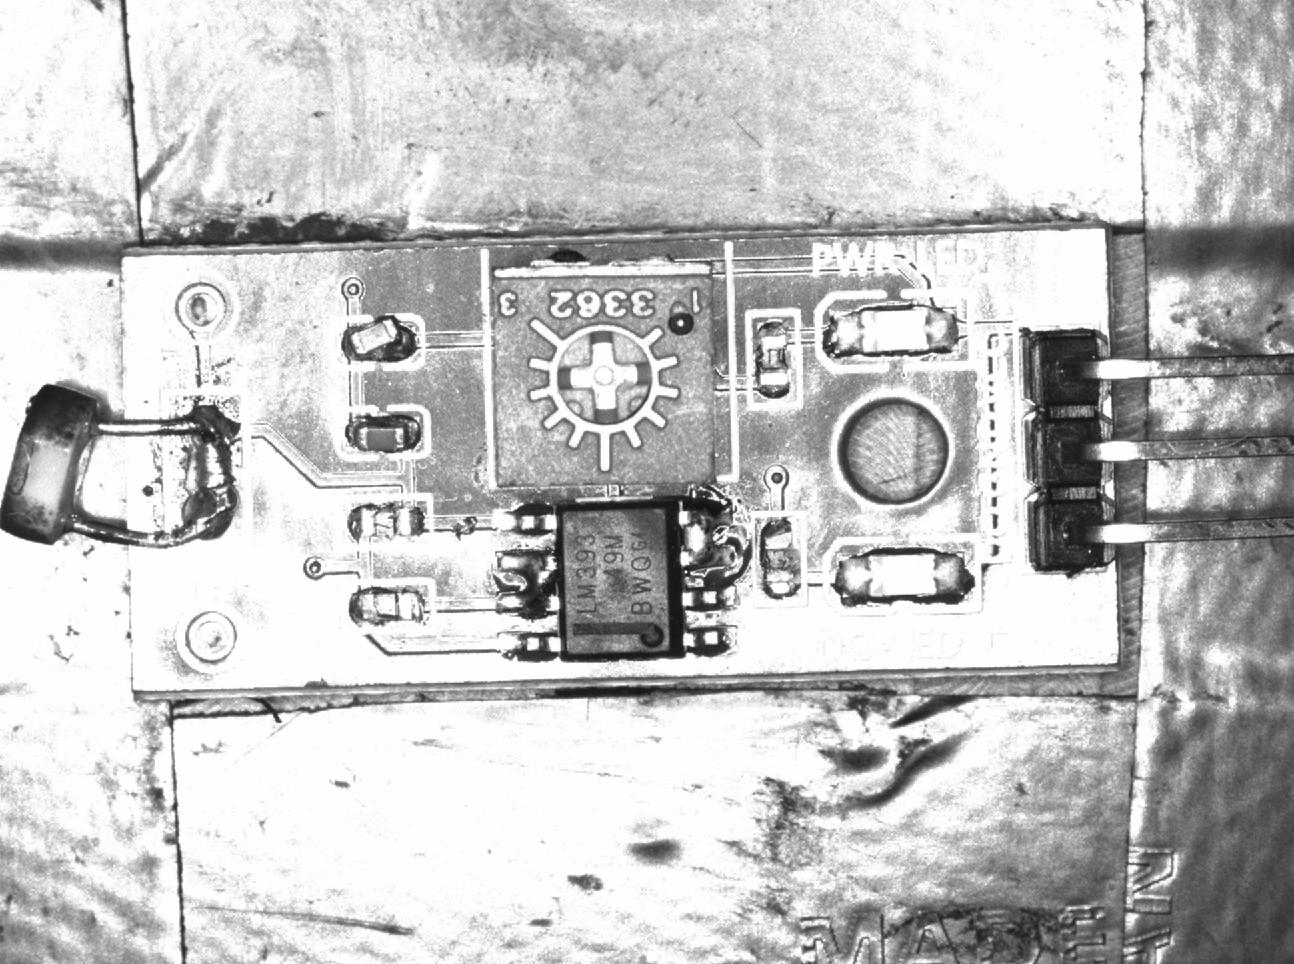bridge: (165, 390, 244, 545), (679, 496, 741, 577), (497, 549, 564, 618)
lifted: (336, 317, 424, 369)
miss: (749, 309, 803, 409), (338, 495, 431, 550), (339, 579, 435, 630), (751, 513, 804, 606)
ok: (334, 406, 430, 458)
